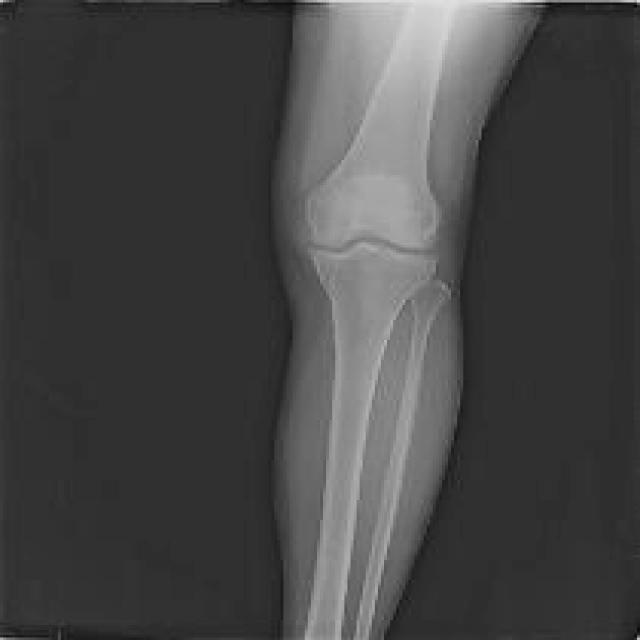normal: (302, 0, 459, 640)
